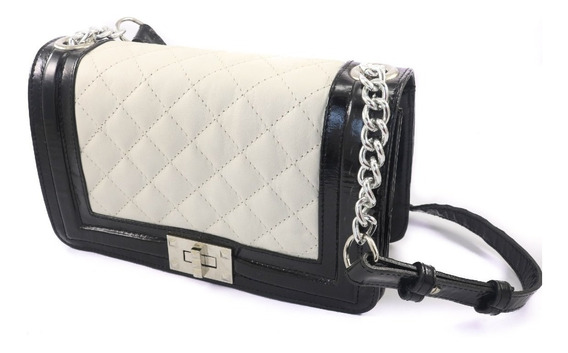cartera: (25, 15, 418, 318)
